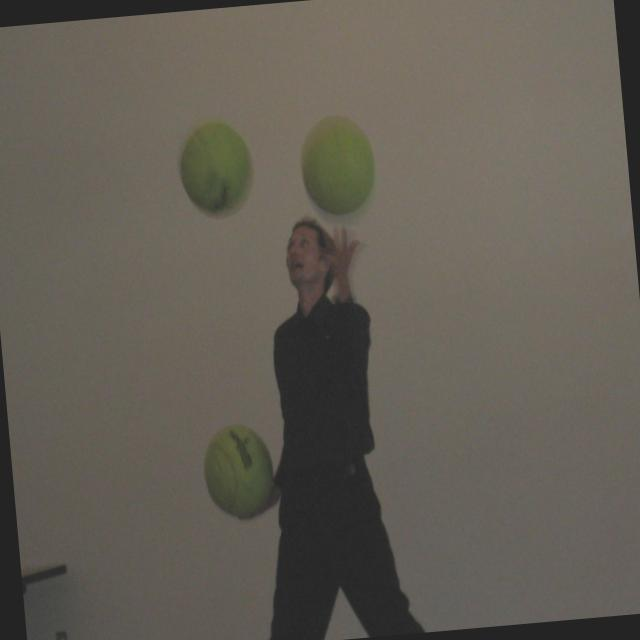Tennis Ball: (198, 426, 280, 527), (298, 112, 376, 218), (174, 122, 251, 210)
